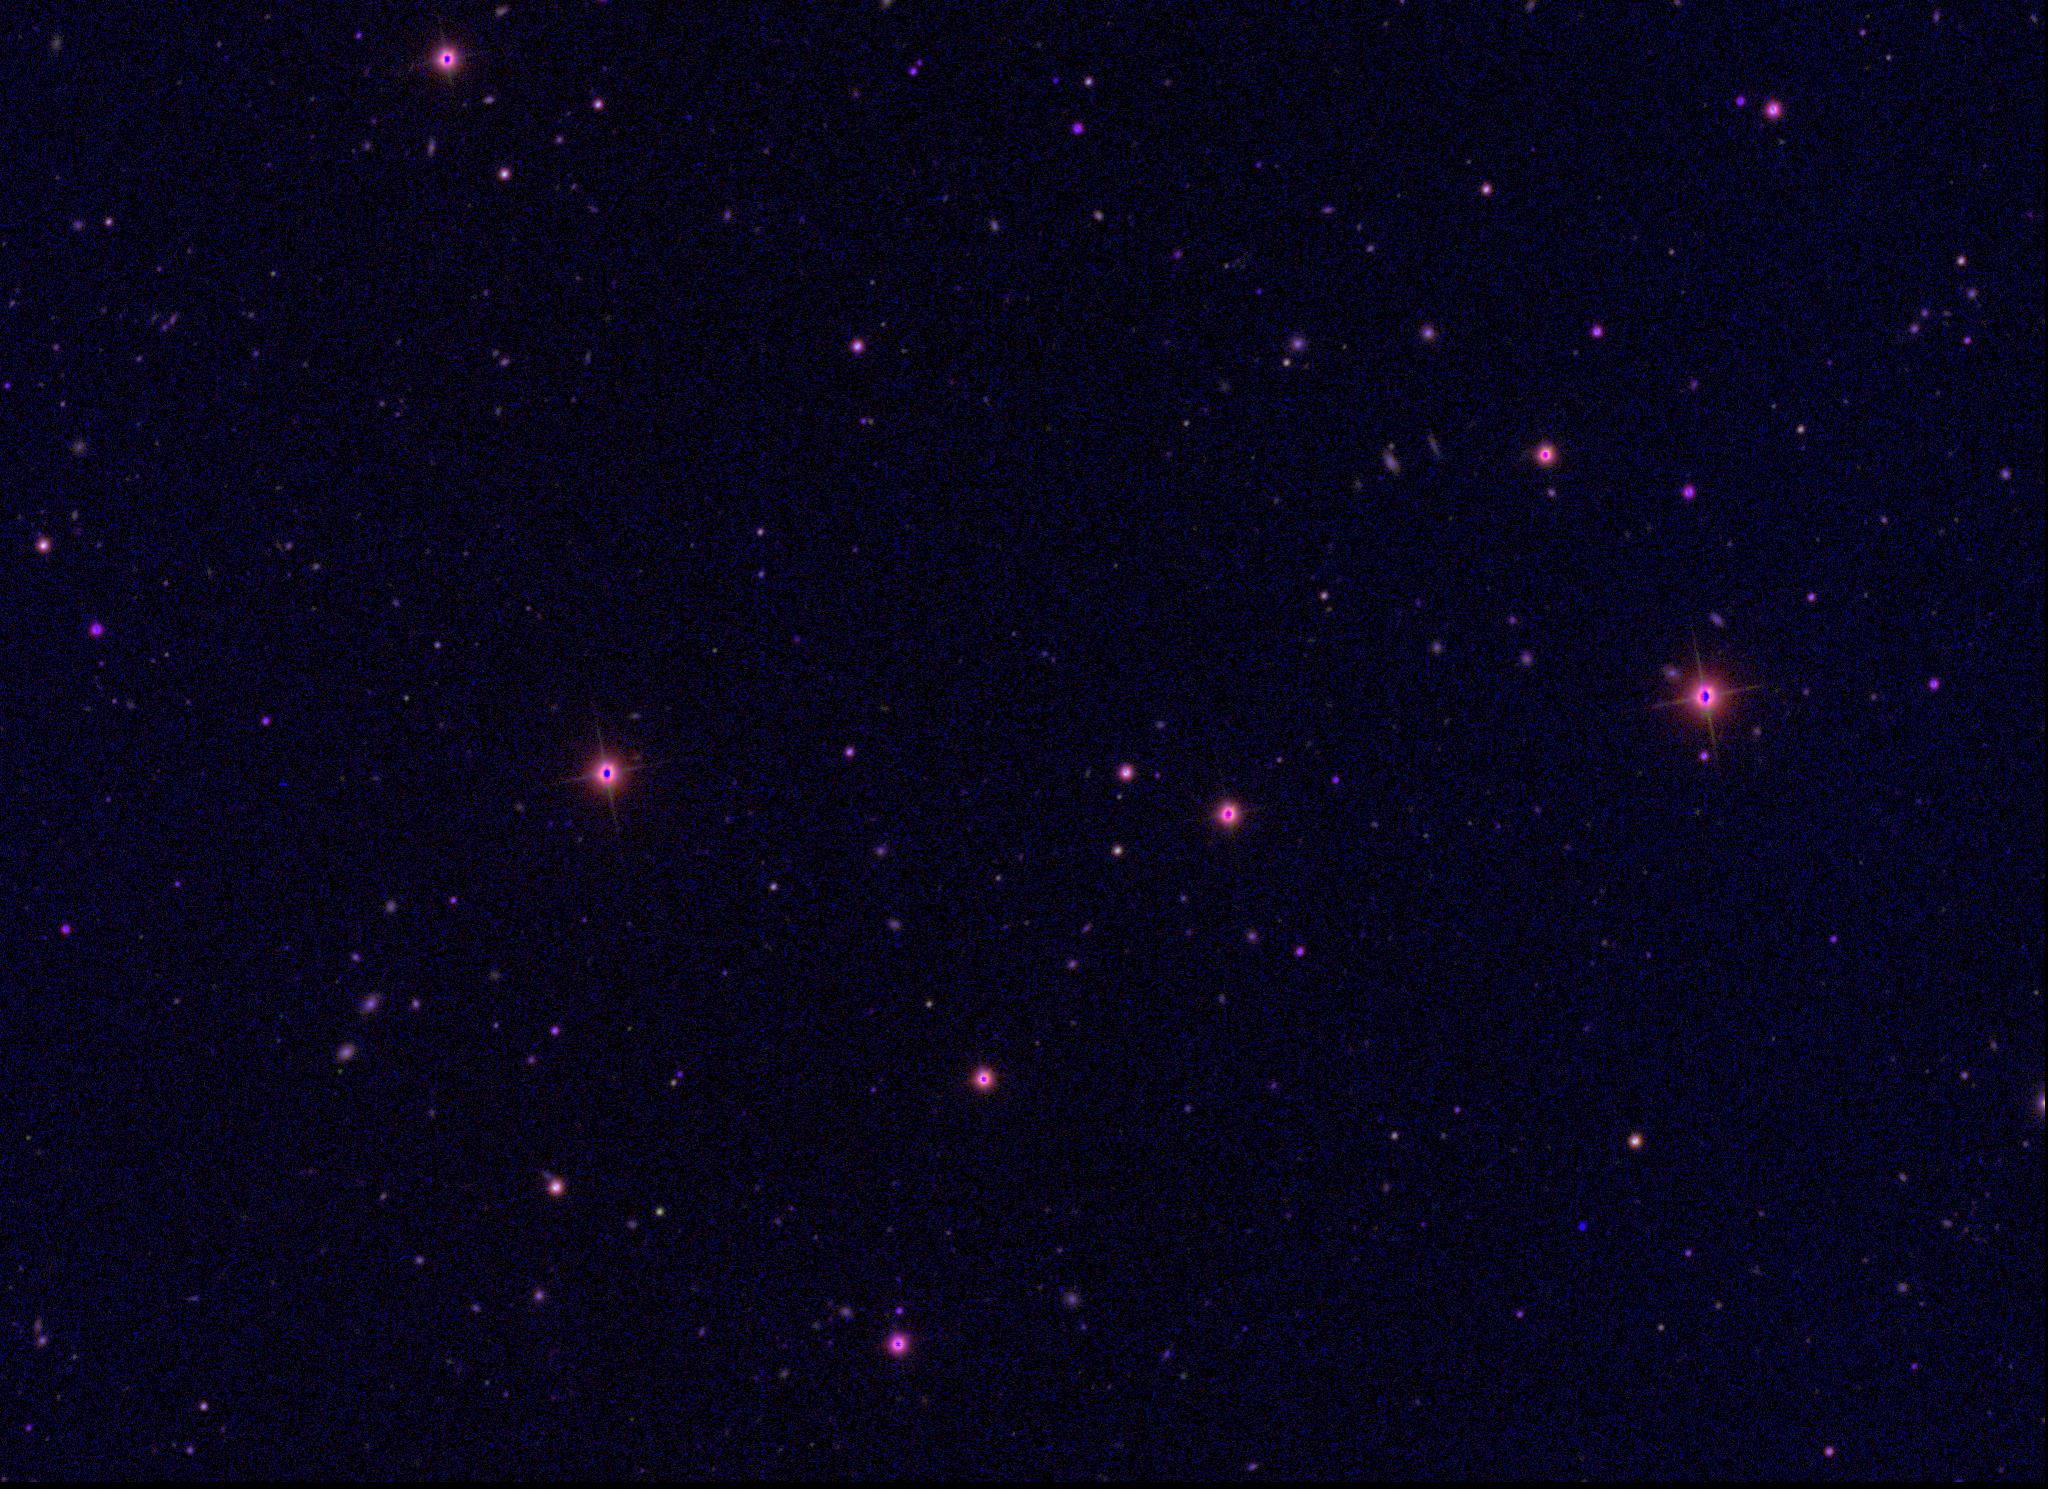L: (1576, 1219, 1590, 1231)
